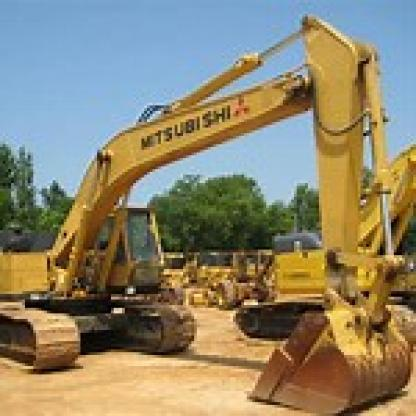excavator: (3, 11, 413, 413)
